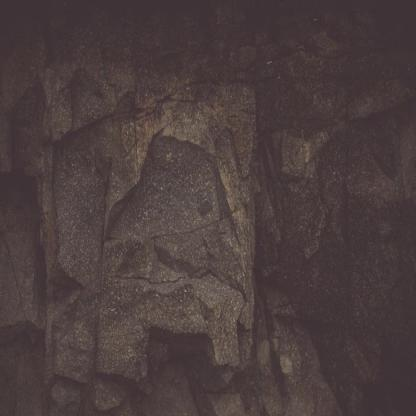Igneous_Basalt: (0, 15, 413, 416)
